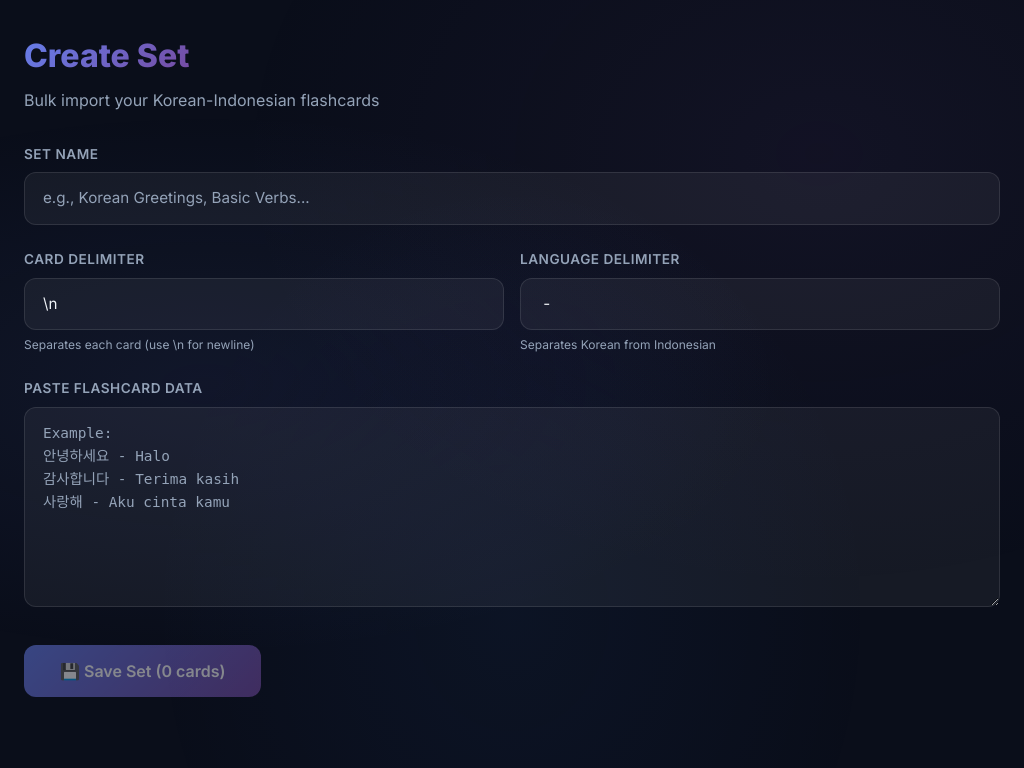
it: CreateSet › parses bulk text with custom card delimiter
This screenshot has width=1024, height=768.
Set card delimiter to "||"
Replace the text in the field below "Card Delimiter" with "||": {"x": 264, "y": 304} [24, 278, 504, 330]
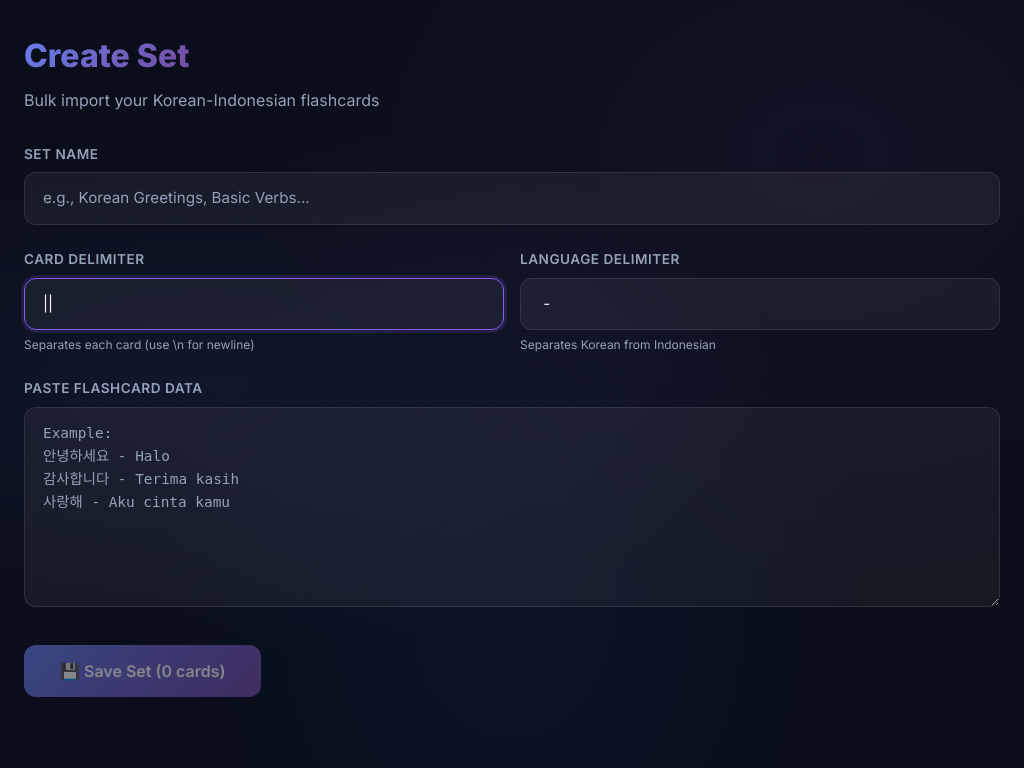
Set language delimiter to ":"
Replace the text in the field below "Language Delimiter" with ":": {"x": 760, "y": 304} [520, 278, 1000, 330]
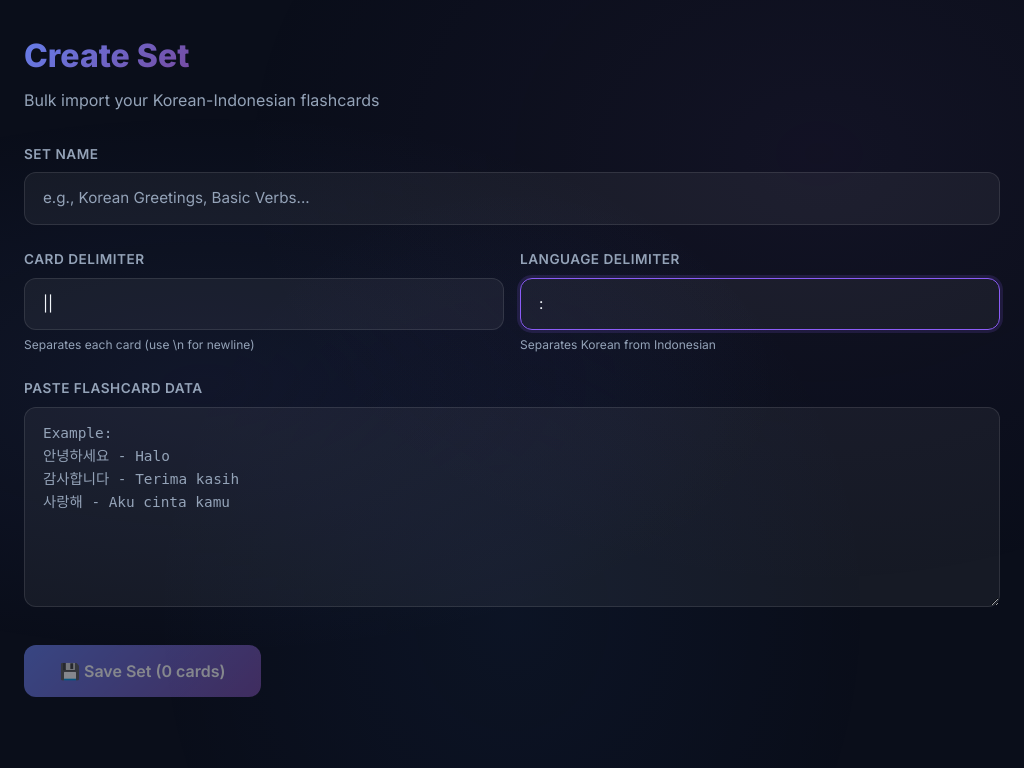
Replace the text in the text box with "안녕하세요:Halo||감사합니다:Terima kasih": {"x": 512, "y": 507} [24, 407, 1000, 607]
(page scrolled)
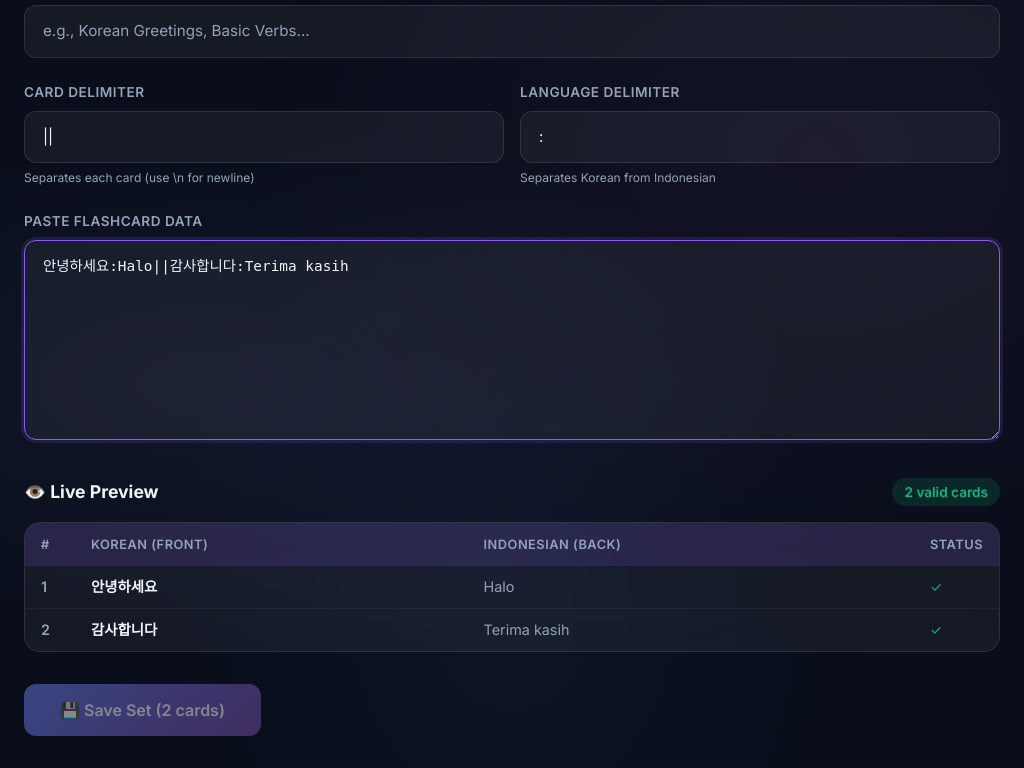
Check: the text "2 valid cards" is shown, box [892, 478, 1000, 506]
Check: the text "안녕하세요" is shown, box [75, 566, 468, 609]
Check: the text "Halo" is shown, box [468, 566, 914, 609]
